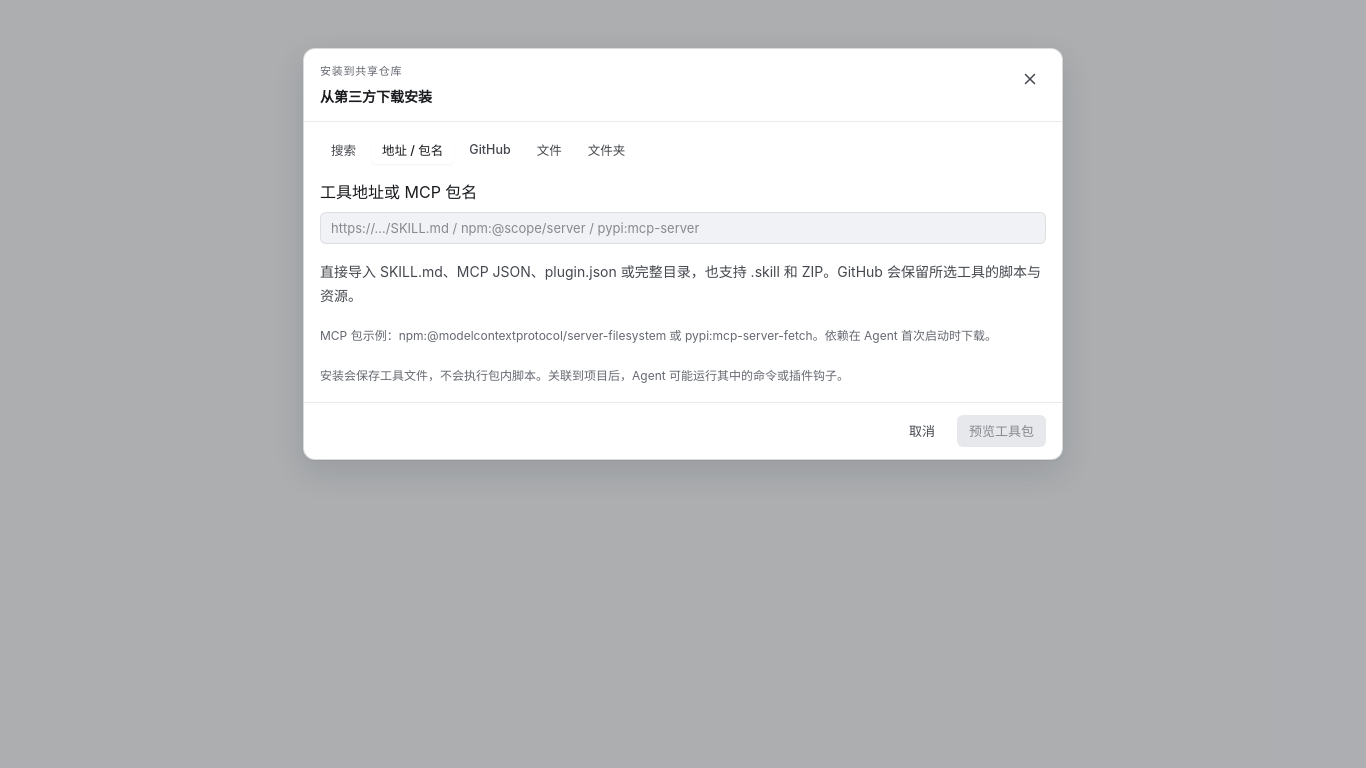
Test case: tool installation dialog › keeps download failures visible and allows retrying
In the field labelled "工具地址或 MCP 包名": x=683, y=228 [320, 212, 1046, 244], type "https://example.com/tools.zip"
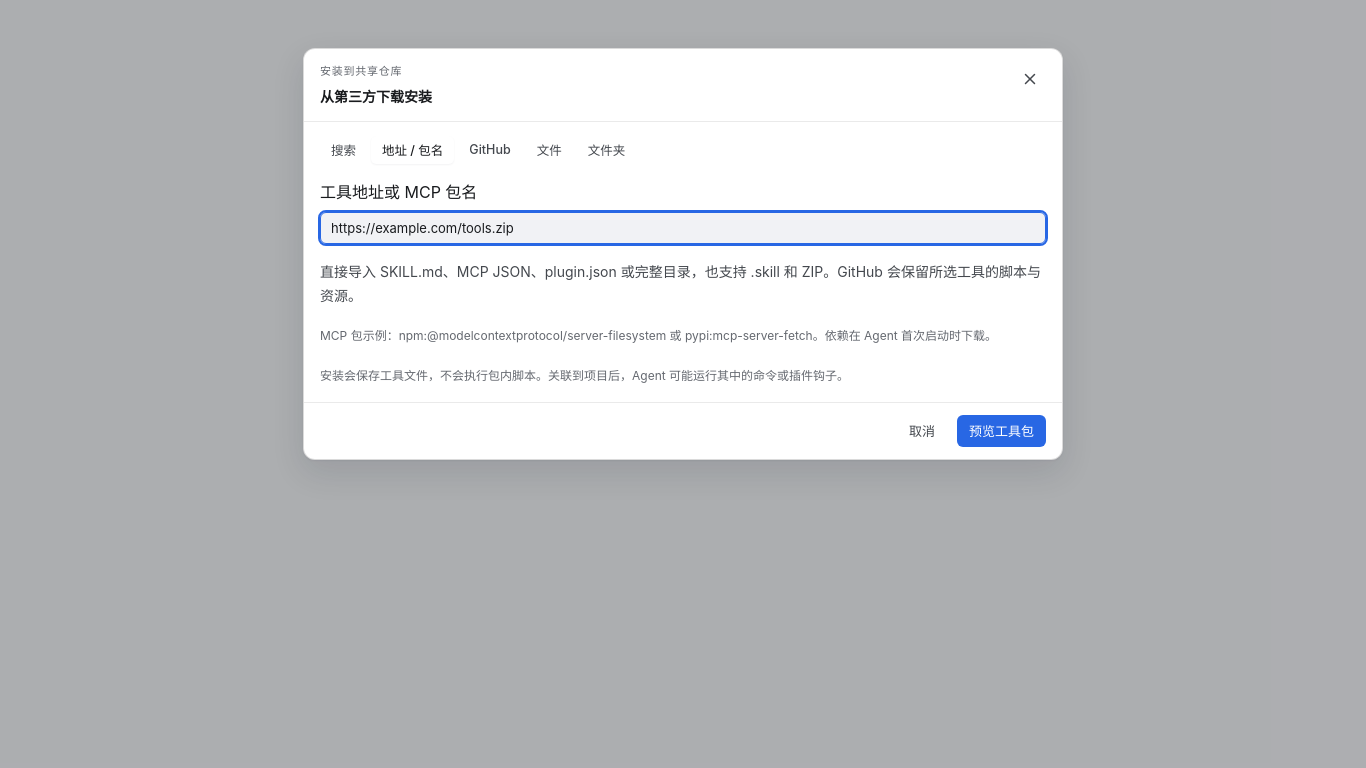
Click the button "预览工具包": x=1002, y=430 [957, 414, 1046, 446]
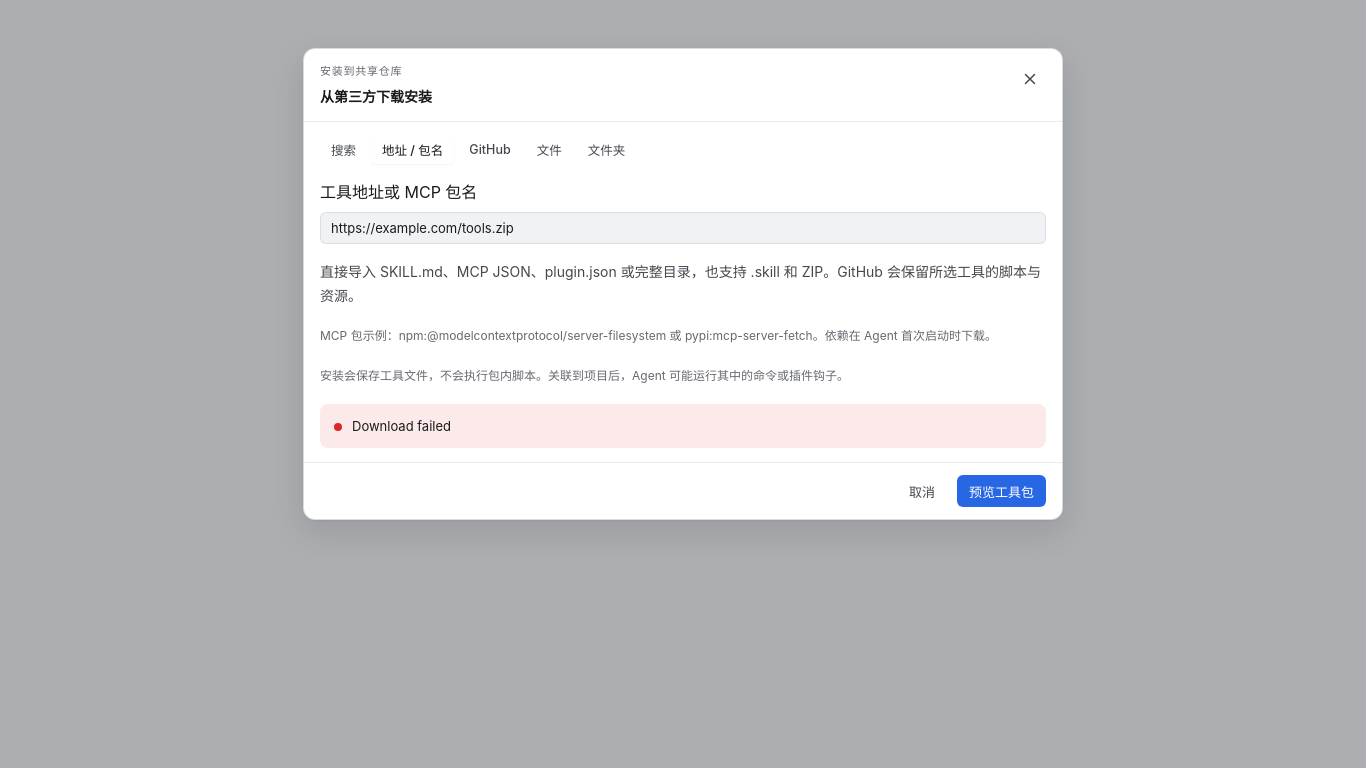
Now the text "Download failed" is shown, box [352, 416, 451, 436]
Click the button "预览工具包": x=1002, y=491 [957, 475, 1046, 507]
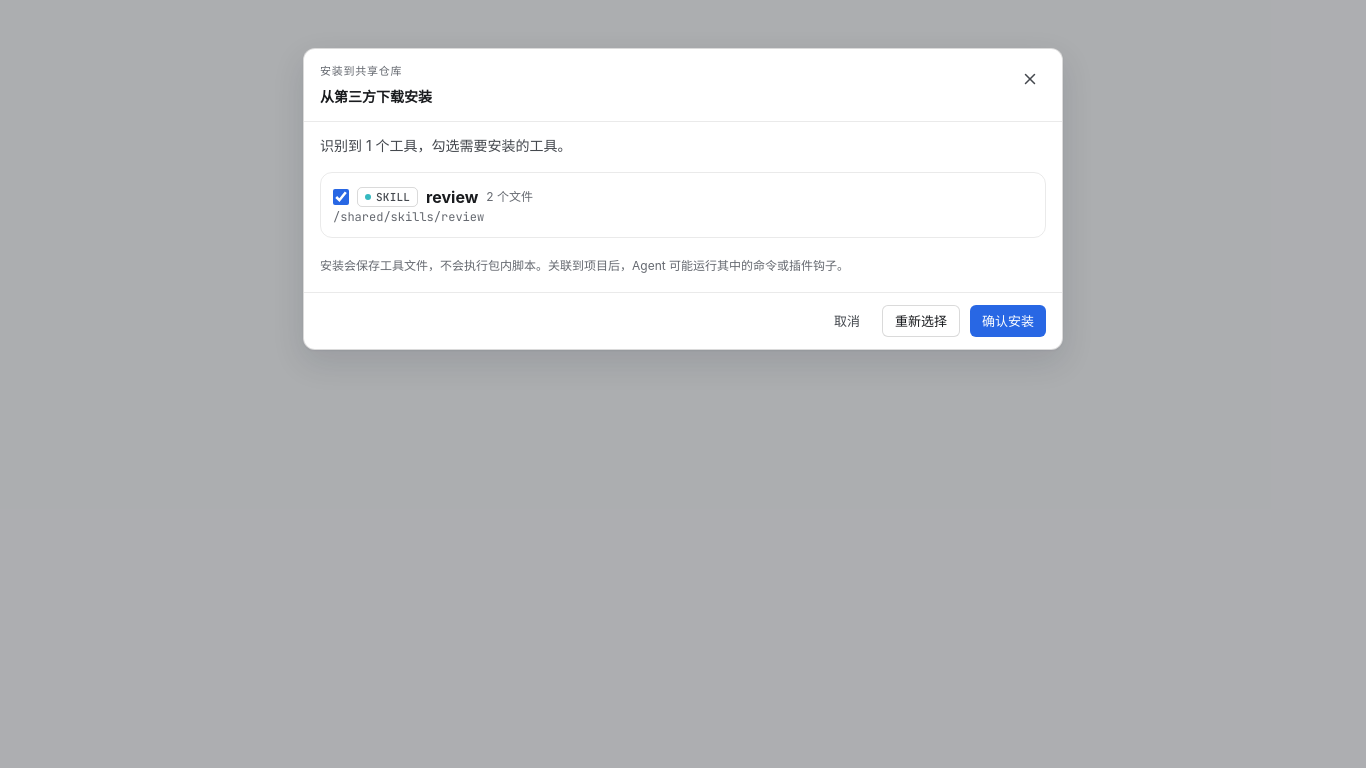
Now the text "review" is shown, box [426, 184, 478, 208]
